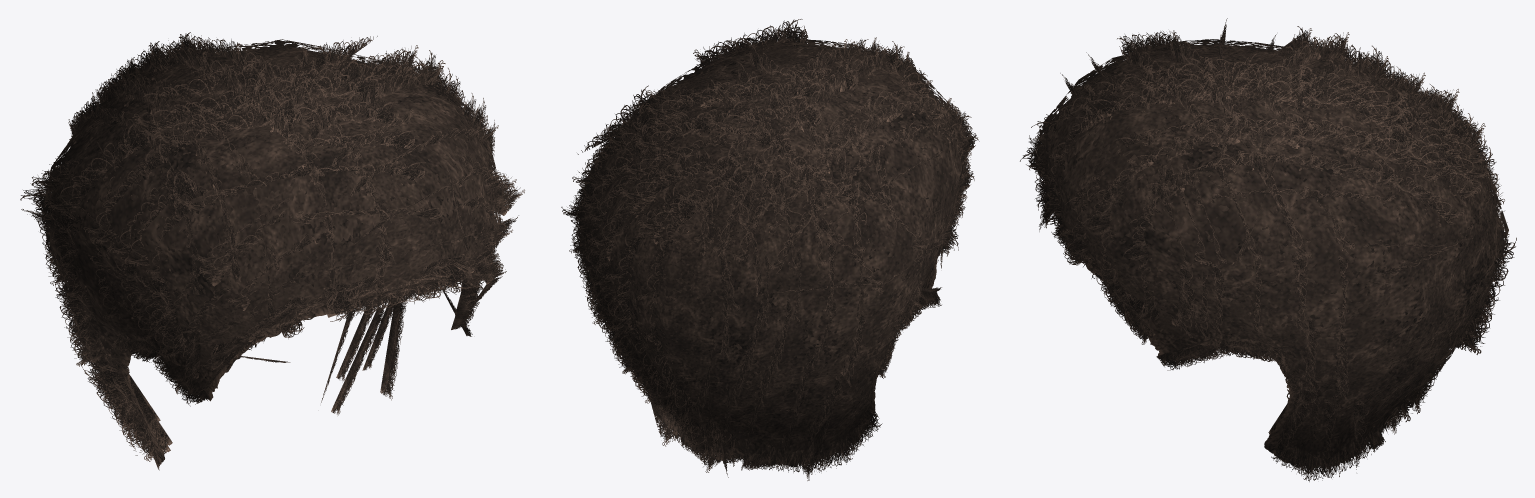
The model's file is coils.glb.
3 views of the same model, side by side, from view 1: azimuth 30°, elevation 25°; view 2: azimuth 150°, elevation 25°; view 3: azimuth 270°, elevation 25° (orthographic). The views are drawn at different scales.
Parts seen in each view (by area): view 1: Loose, Tucked; view 2: Loose, Tucked; view 3: Loose, Tucked.
Part boxes in pixels (x1,y1,x2,y2): Loose: (20,32,524,470); Tucked: (77,33,475,410); Loose: (561,19,979,480); Tucked: (598,148,954,461); Loose: (1020,18,1516,481); Tucked: (1085,85,1506,420).
Bounding box in the file's own units: 0.2303 × 0.2283 × 0.2636.
2 materials, 2 textured.
